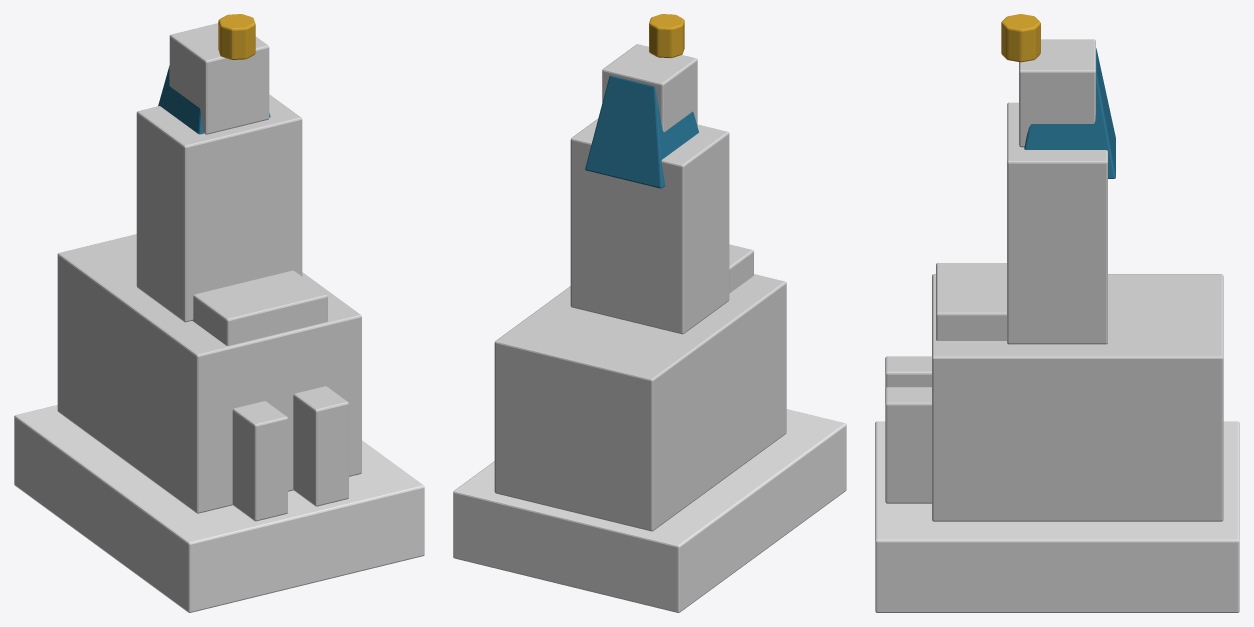
Rendered from egipto_pharaoh.fbx.
3 renders of one model, left to right at view 1: azimuth 30°, elevation 25°; view 2: azimuth 150°, elevation 25°; view 3: azimuth 270°, elevation 25°, orthographic. The views are drawn at different scales.
Parts seen in each view (by area): view 1: egipto_pharaoh; view 2: egipto_pharaoh; view 3: egipto_pharaoh.
Boxes of the visible parts, x1=… form: egipto_pharaoh: x1=14, y1=14, x2=424, y2=612; egipto_pharaoh: x1=453, y1=14, x2=846, y2=612; egipto_pharaoh: x1=875, y1=14, x2=1239, y2=612.
Bounding box in the file's own units: 1.4 × 2.9 × 1.8.
